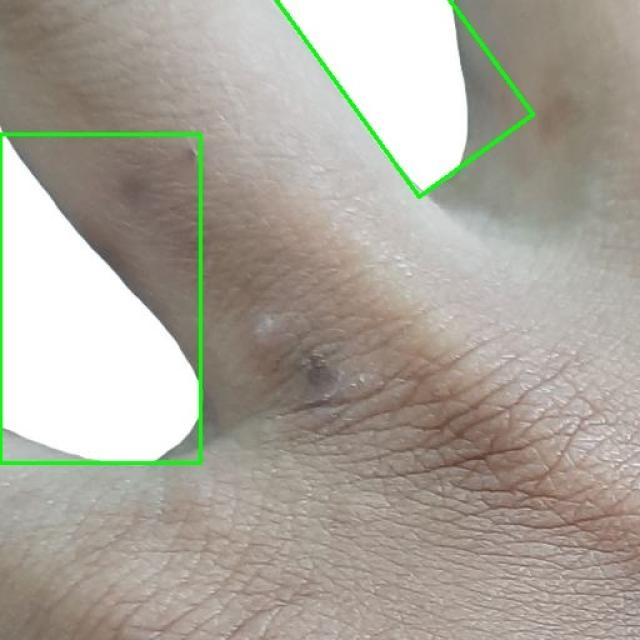Scabies: (0, 134, 200, 462), (277, 0, 533, 197)
